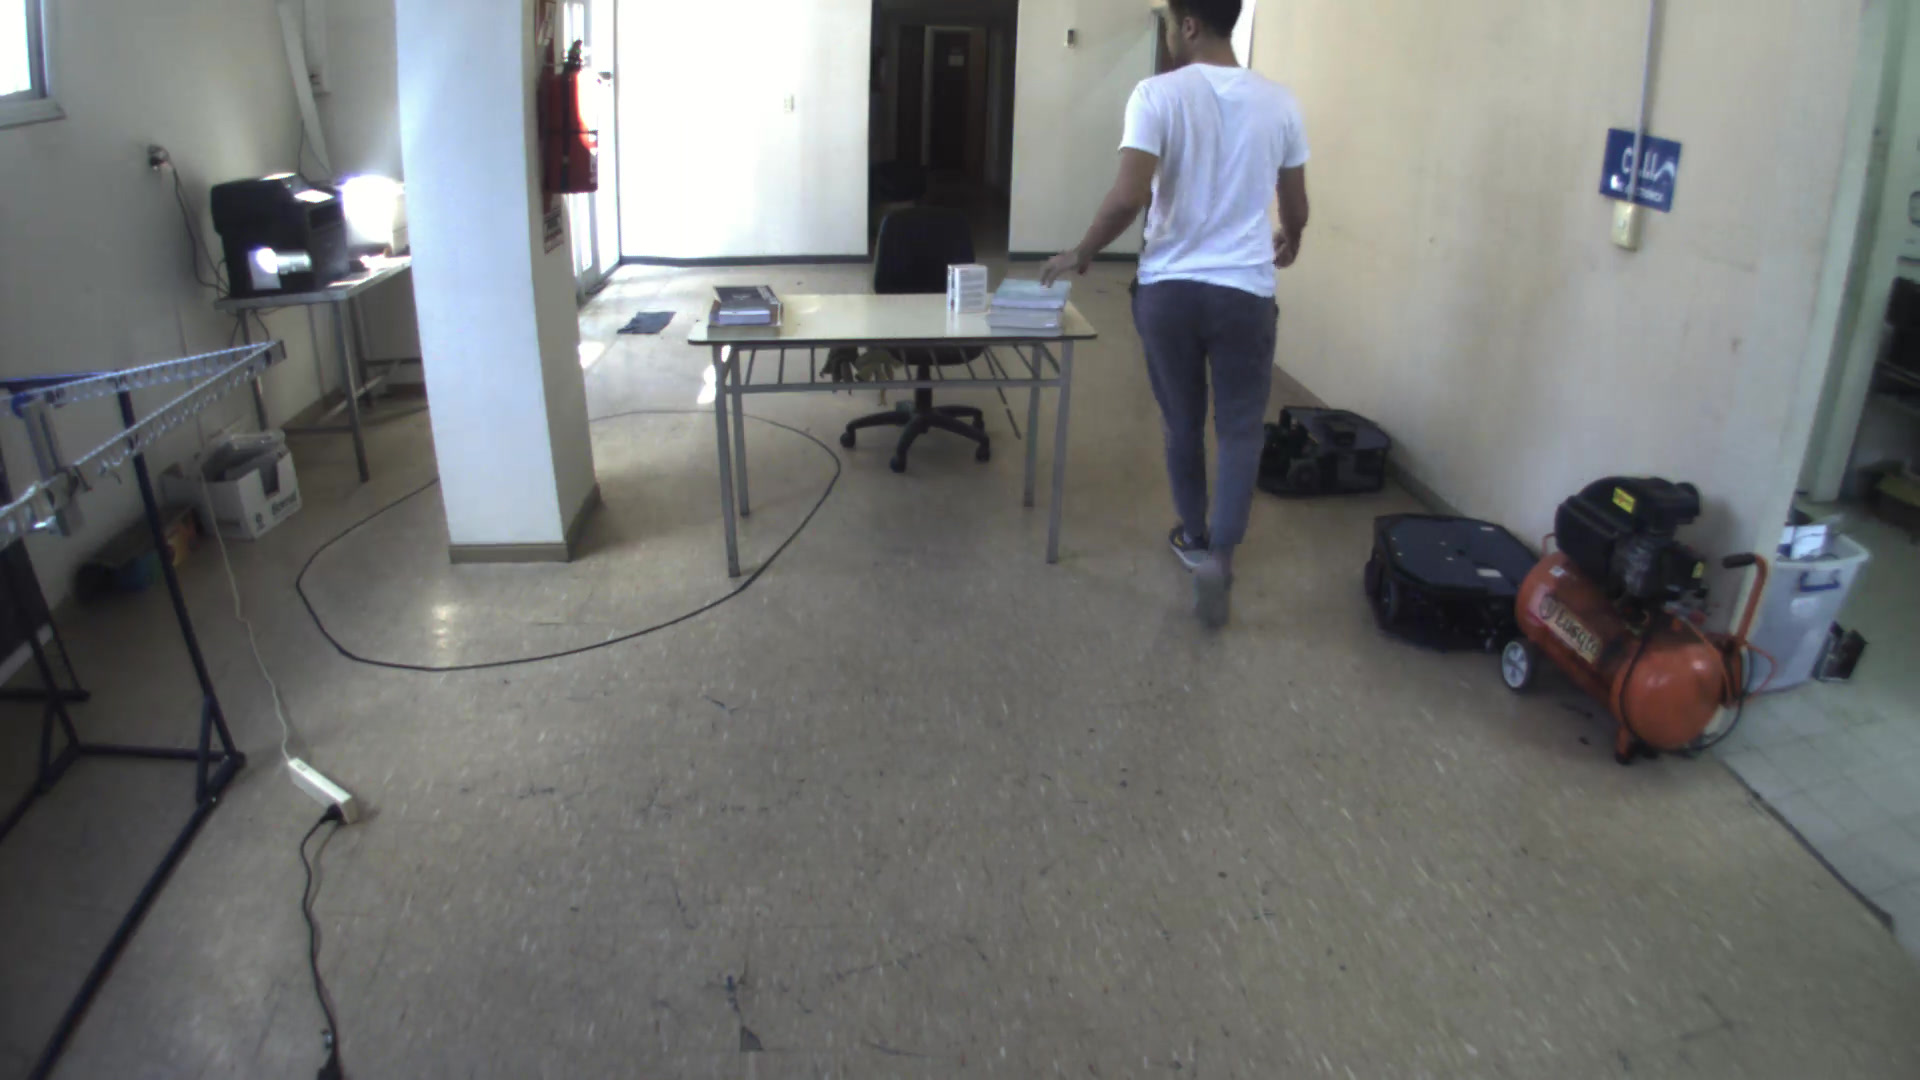hand: (1038, 241, 1095, 285), (1279, 215, 1309, 276)
